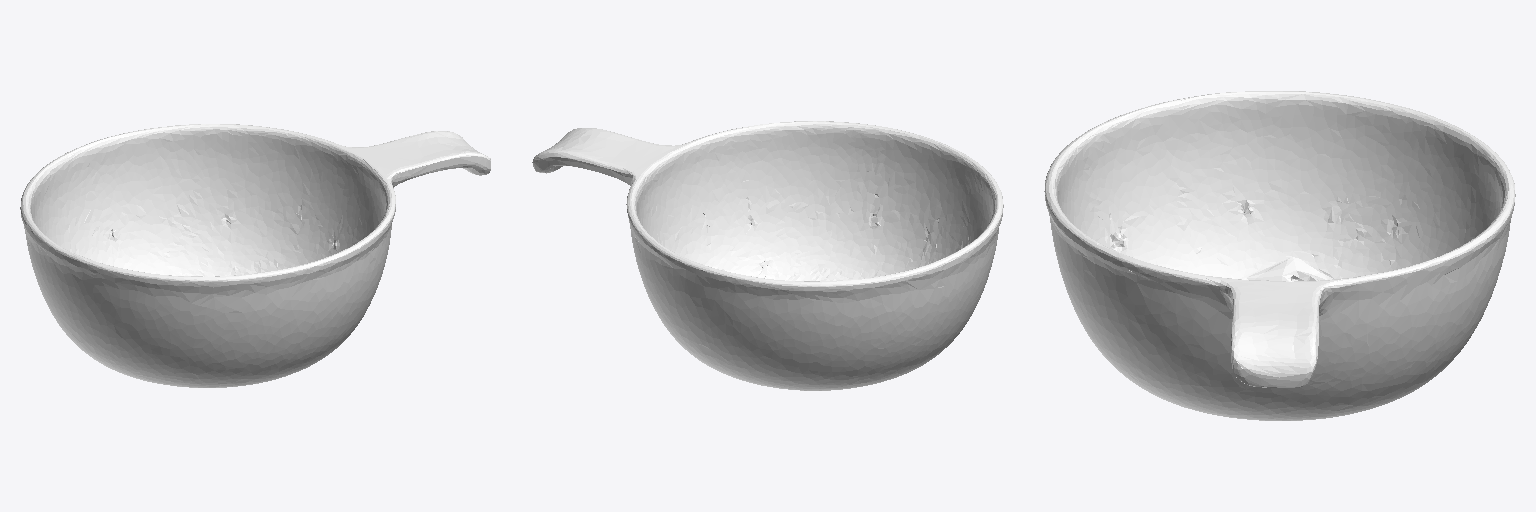
robot.urdf — model.urdf:
<?xml version="0.0" ?>
<robot name="model.urdf">
  <link name="baseLink">
    <contact>
    	<friction_anchor/>
      <lateral_friction value="1.0"/>
    </contact>
    <inertial>
      <origin rpy="0 0 0" xyz="0 0 0"/>
       <mass value="0.491"/>
       <inertia ixx="1" ixy="0" ixz="0" iyy="1" iyz="0" izz="1"/>
    </inertial>
    <visual>
      <geometry>
        <mesh filename="textured.obj" scale="1 1 1"/>
      </geometry>
      <material name="white">
        <color rgba="1. 1. 1. 1."/>
      </material>
    </visual>
    <collision>
      <geometry>
    	 	<mesh filename="collision.obj" scale="1 1 1"/>
      </geometry>
    </collision>
  </link>
</robot>

--- Render facts (derived) ---
3 views of the same robot in one strip: view 1: azimuth 30°, elevation 25°; view 2: azimuth 150°, elevation 25°; view 3: azimuth 270°, elevation 25° (orthographic).
Robot: model.urdf — 1 links, 0 joints (none); root link baseLink; default pose: all joints at 0.
Links seen in each view (by area): view 1: baseLink; view 2: baseLink; view 3: baseLink.
Link boxes in pixels (<box>): baseLink: <box>20,124,490,387</box>; baseLink: <box>532,121,1003,390</box>; baseLink: <box>1044,91,1515,420</box>.
Size in the robot's own frame: 0.161 by 0.1213 by 0.0519 metres.
1 mesh visuals loaded from 1 distinct referenced files (1 OBJ).